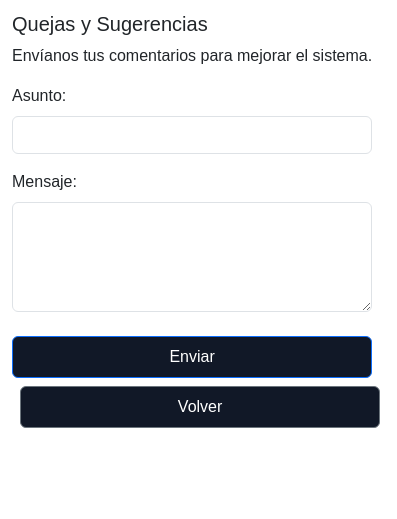
QuejasSugerenciasForm › muestra mensaje de error si fetch falla
The image size is (397, 519).
Type "Prueba" into the field labelled "Asunto:" at (192, 135), box [12, 116, 372, 154]
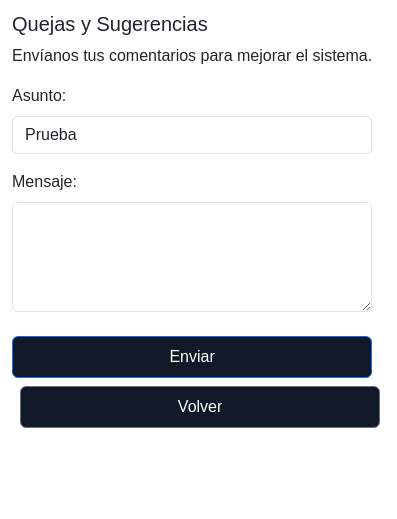
Type "Contenido de prueba" into the text box labelled "Mensaje:" at (192, 257), box [12, 202, 372, 312]
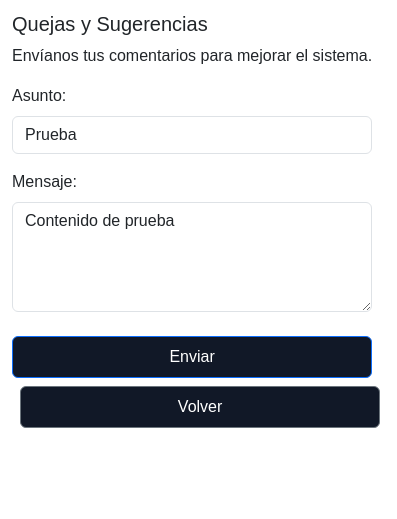
Click the button "Enviar" at (192, 357), box [12, 336, 372, 378]
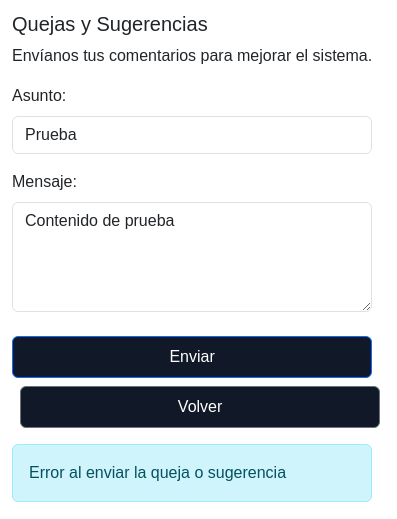
Result: the text "Error al enviar la queja o sugerencia" is shown at [12, 444, 372, 502]
